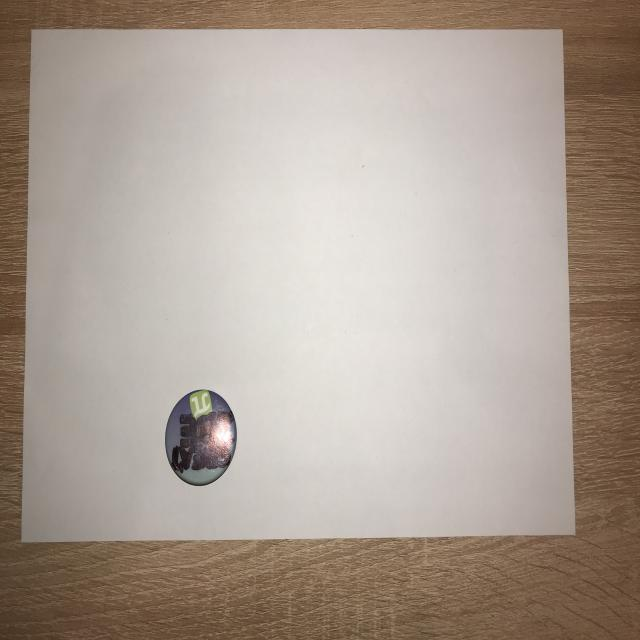icon: (160, 382, 242, 490)
